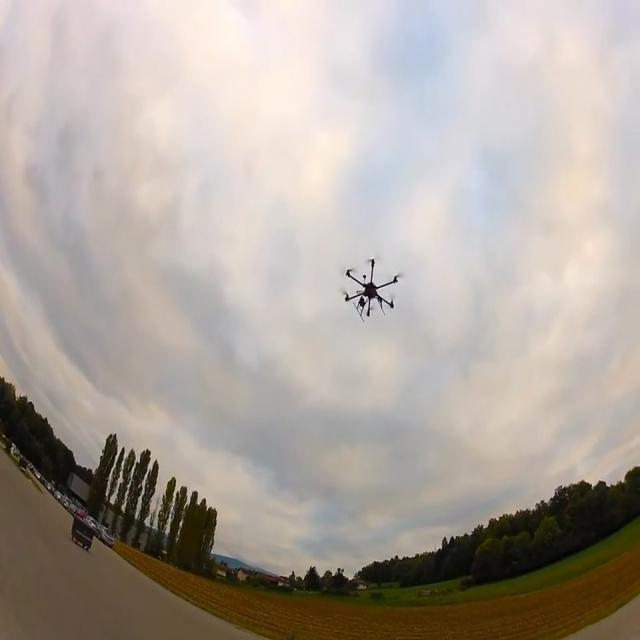drone: (343, 257, 399, 322)
